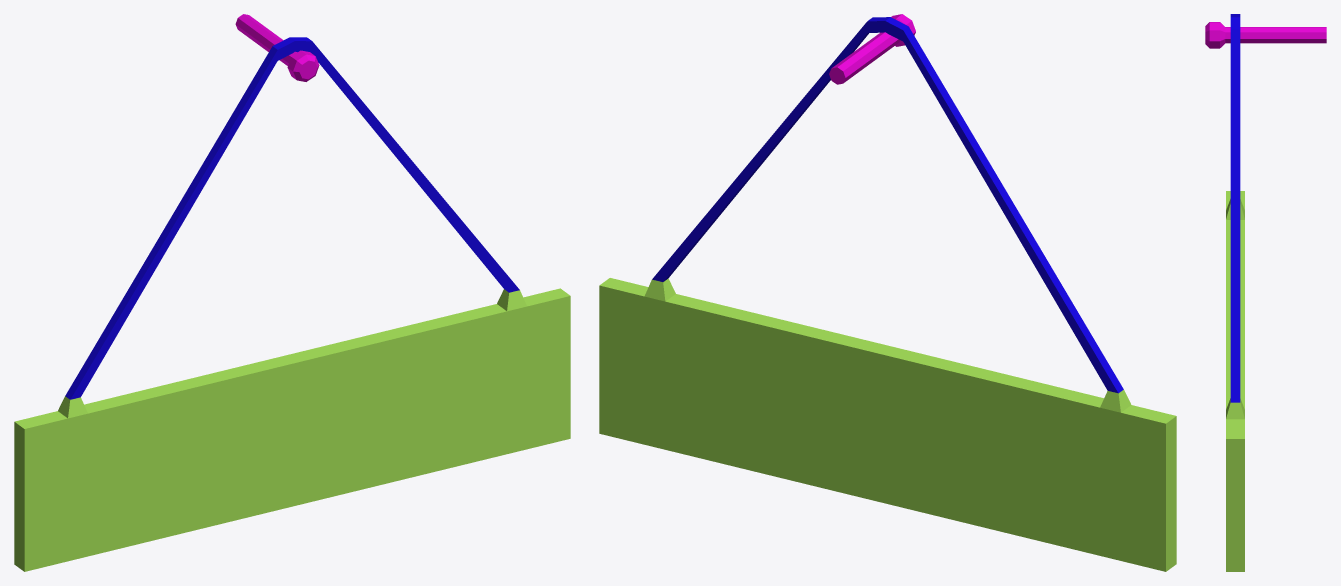
Rendered from insegna_PastaESughi.fbx.
3 renders of one model, left to right at view 1: azimuth 30°, elevation 25°; view 2: azimuth 150°, elevation 25°; view 3: azimuth 270°, elevation 25°, orthographic. The views are drawn at different scales.
Parts seen in each view (by area): view 1: PastaESughi; view 2: PastaESughi; view 3: PastaESughi.
Boxes of the visible parts, bbox=[...] form: PastaESughi: bbox=[14, 14, 570, 571]; PastaESughi: bbox=[599, 14, 1176, 571]; PastaESughi: bbox=[1205, 14, 1326, 571].
Size of the model in its own units: 600 by 486 by 124.
